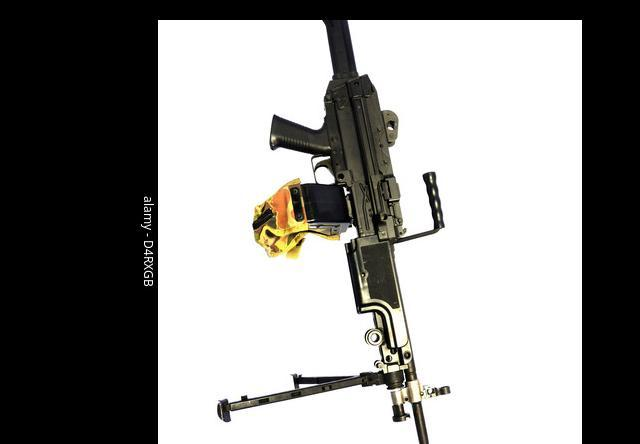larga: (217, 21, 451, 444)
